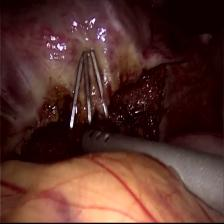Irrigator: (77, 122, 135, 168)
